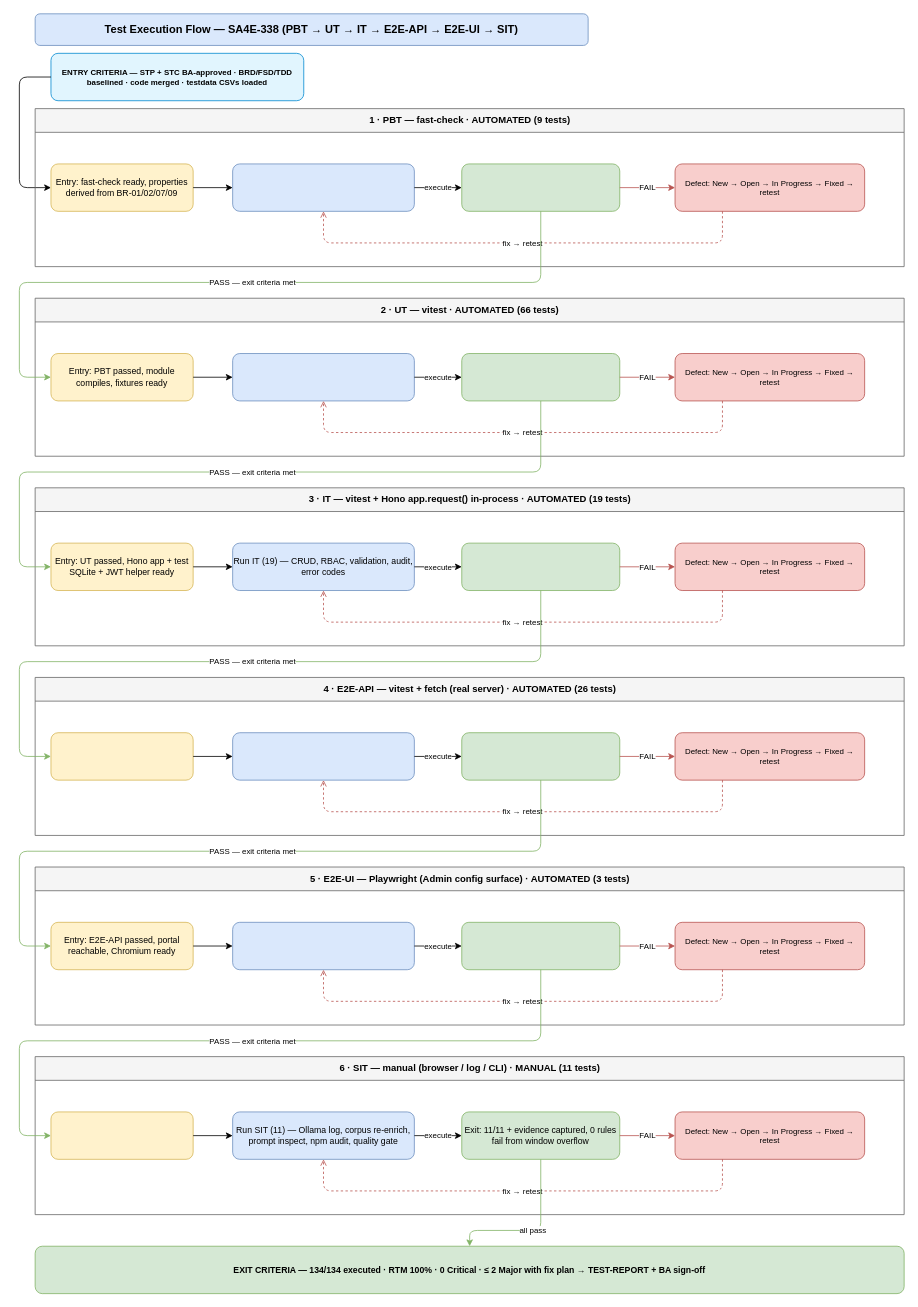
The diagram is 918 pixels wide and 1307 high, and some of its shapes have lost their labels. The shapes that lost their labels are listed below. From the top down, each one's centre as x and y in pixels, then its label:
pixel 323 187: Run PBT (9) — random inputs, invariant checks
pixel 540 187: Exit: 9/9 pass, 3 consecutive stable runs
pixel 323 377: Run UT (66) — discovery, digest, budget, routing, security
pixel 540 377: Exit: 66/66 pass, npm test + npm run lint green
pixel 540 566: Exit: 19/19 pass, audit entries written, real DB used
pixel 121 756: Entry: IT passed, real server up, admin JWT obtained
pixel 323 756: Run E2E-API (26) — endpoints, auth, redaction, HTTPS, retry
pixel 540 756: Exit: 26/26 pass, error codes match FSD §7
pixel 323 946: Run E2E-UI (3) — masked key, HTTPS reject, Max Tokens validation
pixel 540 946: Exit: 3/3 pass, no UI regression on config screen
pixel 121 1135: Entry: all automated green, 0 Critical/Major open, SECURITY C4 confirmed
